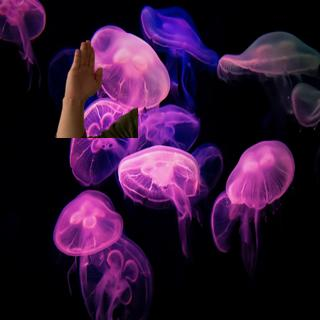RIGHT: (59, 37, 108, 117)
